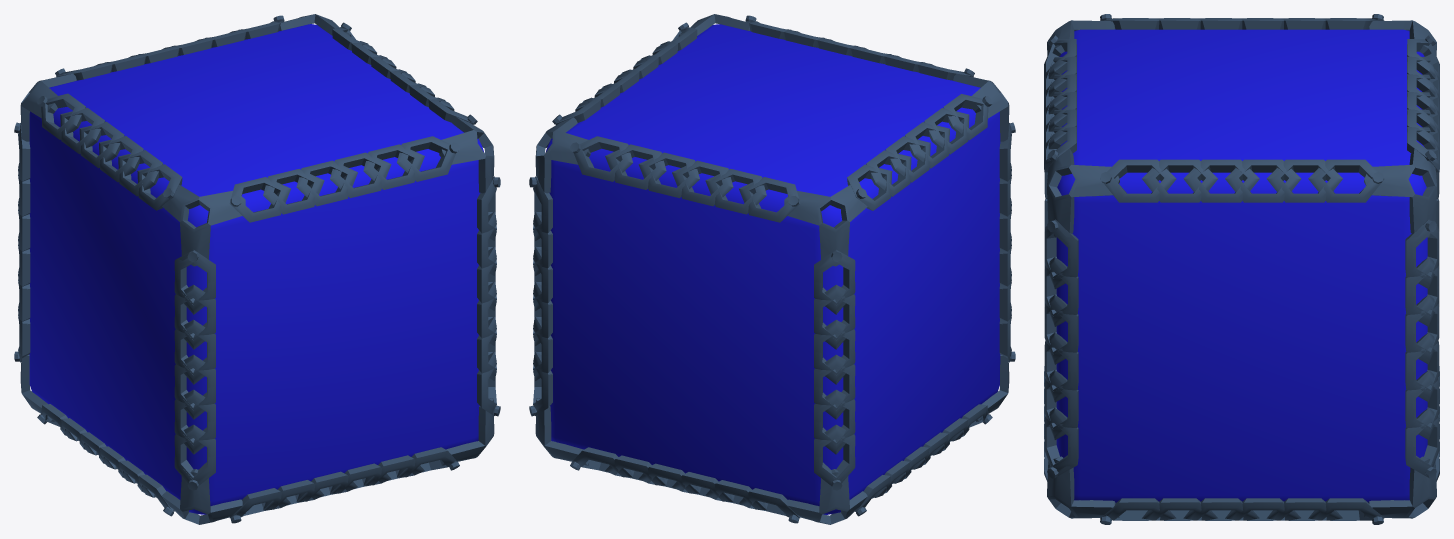
The model's file is StrappedKube.fbx.
3 views of the same model, side by side, from view 1: azimuth 30°, elevation 25°; view 2: azimuth 150°, elevation 25°; view 3: azimuth 270°, elevation 25° (orthographic). The views are drawn at different scales.
Parts seen in each view (by area): view 1: Kube, Strapping, StrappingBroken; view 2: Kube, Strapping, StrappingBroken; view 3: Kube, Strapping, StrappingBroken.
Part boxes in pixels (<box>): Kube: <box>29,24,484,514</box>; Strapping: <box>14,14,500,524</box>; StrappingBroken: <box>229,27,500,415</box>; Kube: <box>545,24,1000,514</box>; Strapping: <box>529,68,1015,524</box>; StrappingBroken: <box>556,14,973,124</box>; Kube: <box>1056,29,1427,502</box>; Strapping: <box>1044,14,1439,524</box>; StrappingBroken: <box>1044,39,1384,476</box>.
Size of the model in its own units: 209 by 209 by 209.
